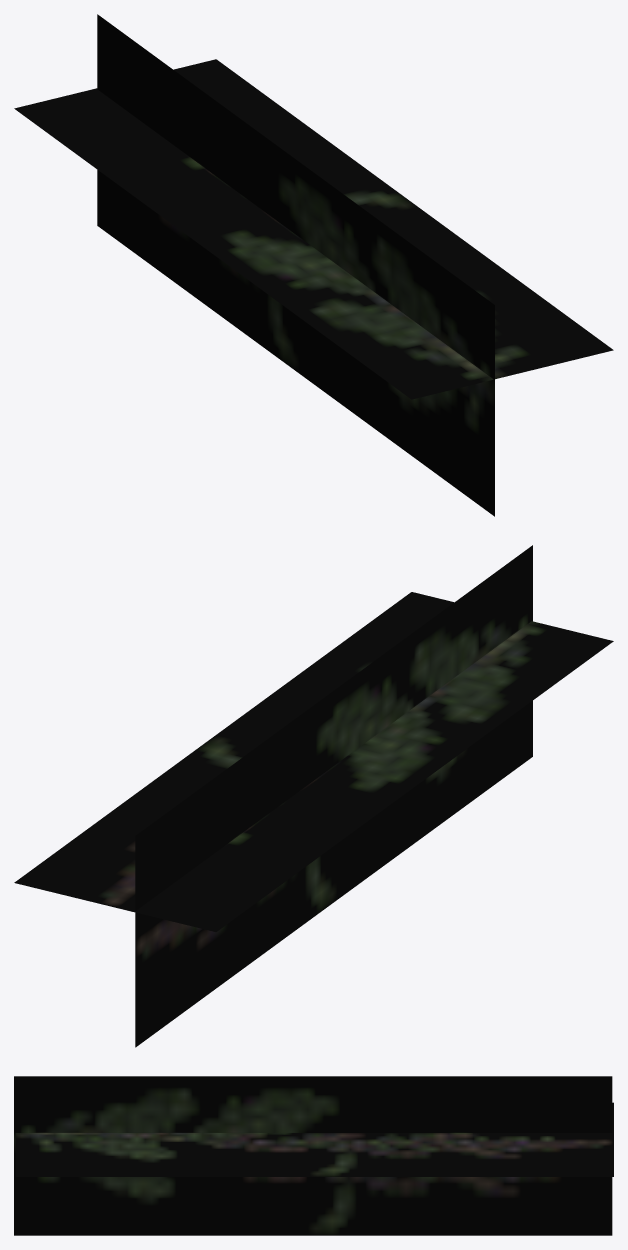
Rendered from SM_EC_Plant_Card_Cross_06.fbx.
3 renders of one model, top to bottom at view 1: azimuth 30°, elevation 25°; view 2: azimuth 150°, elevation 25°; view 3: azimuth 270°, elevation 25°, orthographic. The views are drawn at different scales.
Visible parts, largest first — view 1: SM_EC_Plant_Card_Cross_06; view 2: SM_EC_Plant_Card_Cross_06; view 3: SM_EC_Plant_Card_Cross_06.
Part boxes in pixels (x1,y1,x2,y2): SM_EC_Plant_Card_Cross_06: (14,14,613,516); SM_EC_Plant_Card_Cross_06: (14,545,613,1047); SM_EC_Plant_Card_Cross_06: (14,1076,613,1235).
Size of the model in its own units: 0.3344 by 1.14 by 0.3344.
